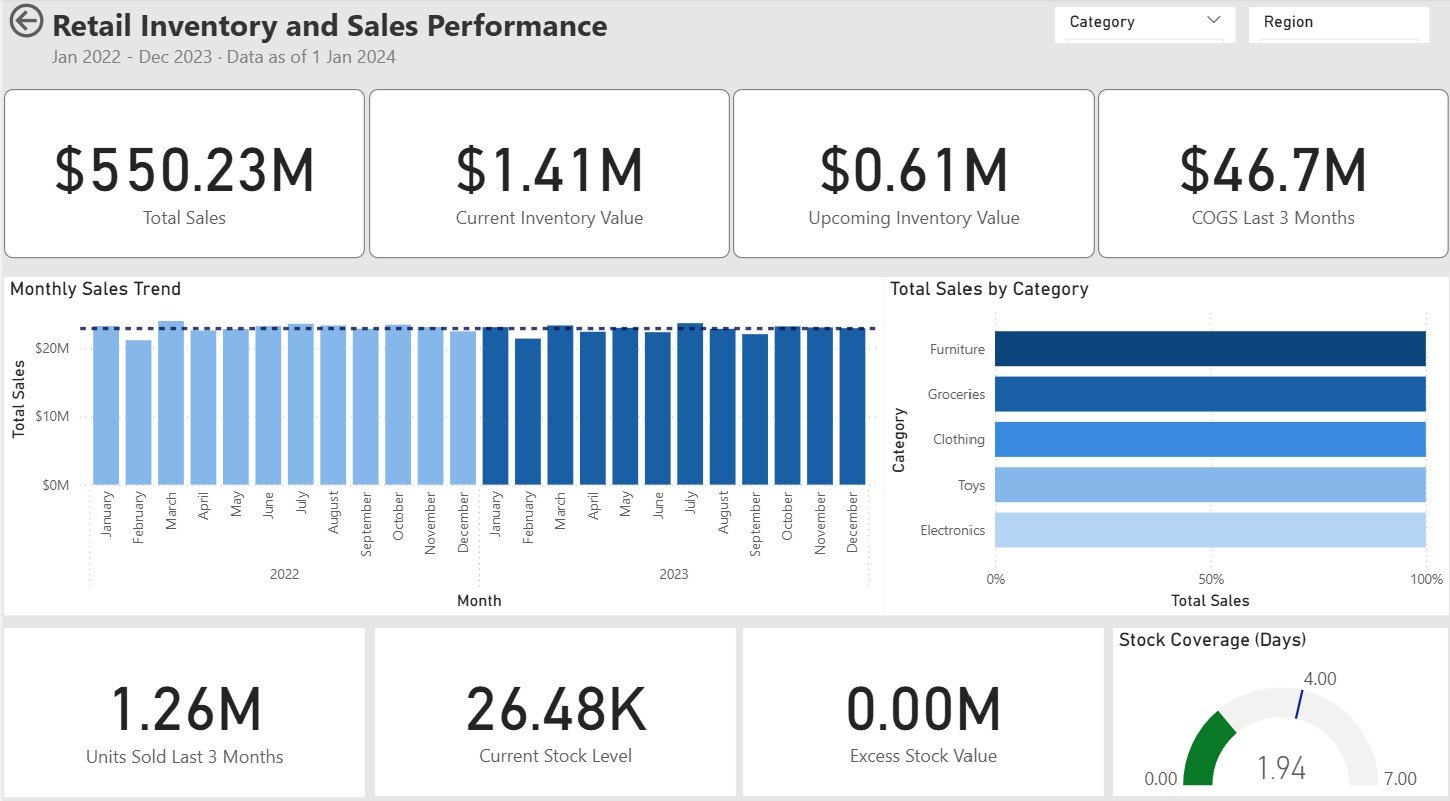

Layout of this report page (visuals, bound fields, positions):
{"tool":"powerbi","page":{"name":"Inventory Dashboard","canvas":[1280,720],"ordinal":0},"visuals":[{"type":"actionButton","box":[0,0,100,40],"z":0},{"type":"textbox","box":[37.3,0,1242.7,80.8],"z":1000},{"type":"card","fields":{"Values":["retail_store_inventory.Total Sales"]},"box":[0,80.8,320,150.3],"z":2000},{"type":"card","fields":{"Values":["retail_store_inventory.Current Inventory Value"]},"box":[323.4,80.8,320.3,150.3],"z":3000},{"type":"card","fields":{"Values":["retail_store_inventory.Upcoming Inventory Value"]},"box":[646.7,80.8,320.3,150.3],"z":4000},{"type":"card","fields":{"Values":["retail_store_inventory.COGS Last 3 Months"]},"box":[969,80.8,311,150.3],"z":5000},{"type":"clusteredColumnChart","title":"Monthly Sales Trend","fields":{"Category":["retail_store_inventory.Date.Variation.Date Hierarchy.Year","retail_store_inventory.Date.Variation.Date Hierarchy.Month"],"Y":["retail_store_inventory.Total Sales"]},"box":[0,247.7,780.4,299.5],"z":6000},{"type":"hundredPercentStackedBarChart","fields":{"Category":["retail_store_inventory.Category"],"Y":["retail_store_inventory.Total Sales"]},"box":[780.4,247.7,499.6,299.5],"z":7000},{"type":"card","fields":{"Values":["retail_store_inventory.Units Sold Last 3 Months"]},"box":[0,558.6,320.3,150.3],"z":8000},{"type":"card","fields":{"Values":["retail_store_inventory.Current Stock Level"]},"box":[328.6,558.6,320.3,149.2],"z":9000},{"type":"card","fields":{"Values":["retail_store_inventory.Excess Stock Value"]},"box":[655,558.6,319.2,149.2],"z":10000},{"type":"gauge","title":"Stock Coverage (Days)","fields":{"Y":["retail_store_inventory.Stock Coverage Days"]},"box":[982.5,558.6,297.5,149.2],"z":11000},{"type":"slicer","fields":{"Values":["retail_store_inventory.Category"]},"box":[930.7,8.3,159.6,32.1],"z":12000},{"type":"slicer","fields":{"Values":["retail_store_inventory.Region"]},"box":[1102.8,8.3,159.6,32.1],"z":13000}]}

Visuals, with their boxes in screenshot pixels (x1, y1, x2, y2), scaled from the page's 1280x720 canvas onto the 1450x801 screenshot:
actionButton: pyautogui.locateOnScreen(0, 0, 113, 44)
textbox: pyautogui.locateOnScreen(42, 0, 1449, 90)
card - retail_store_inventory.Total Sales: pyautogui.locateOnScreen(0, 90, 362, 257)
card - retail_store_inventory.Current Inventory Value: pyautogui.locateOnScreen(366, 90, 729, 257)
card - retail_store_inventory.Upcoming Inventory Value: pyautogui.locateOnScreen(733, 90, 1095, 257)
card - retail_store_inventory.COGS Last 3 Months: pyautogui.locateOnScreen(1098, 90, 1449, 257)
"Monthly Sales Trend" clusteredColumnChart: pyautogui.locateOnScreen(0, 276, 884, 609)
hundredPercentStackedBarChart - retail_store_inventory.Category x retail_store_inventory.Total Sales: pyautogui.locateOnScreen(884, 276, 1449, 609)
card - retail_store_inventory.Units Sold Last 3 Months: pyautogui.locateOnScreen(0, 621, 363, 789)
card - retail_store_inventory.Current Stock Level: pyautogui.locateOnScreen(372, 621, 735, 787)
card - retail_store_inventory.Excess Stock Value: pyautogui.locateOnScreen(742, 621, 1104, 787)
"Stock Coverage (Days)" gauge: pyautogui.locateOnScreen(1113, 621, 1449, 787)
slicer - retail_store_inventory.Category: pyautogui.locateOnScreen(1054, 9, 1235, 45)
slicer - retail_store_inventory.Region: pyautogui.locateOnScreen(1249, 9, 1430, 45)
